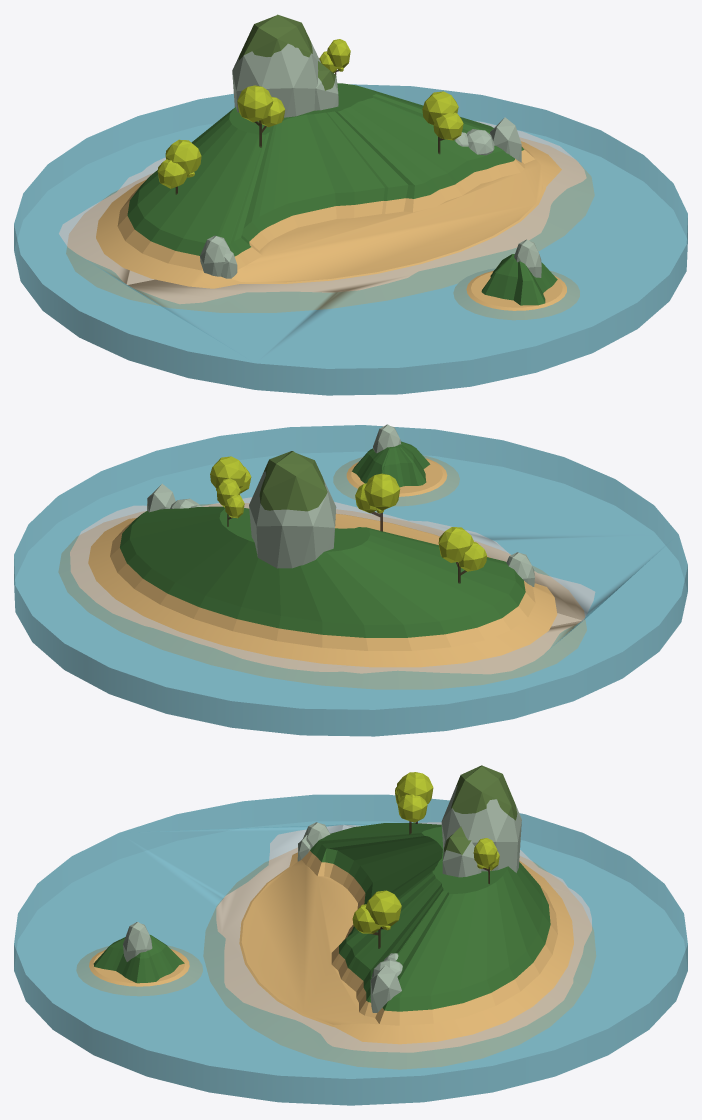
The model's file is island.glb.
The picture shows the model from 3 angles, top to bottom: view 1: azimuth 30°, elevation 25°; view 2: azimuth 150°, elevation 25°; view 3: azimuth 270°, elevation 25°; orthographic projection.
Visible parts, largest first — view 1: Cylinder002, Cylinder003, GeoSphere019, GeoSphere016, GeoSphere009, GeoSphere013, GeoSphere010, GeoSphere017; view 2: Cylinder002, Cylinder003, GeoSphere019, GeoSphere016, GeoSphere009, GeoSphere013, GeoSphere017; view 3: Cylinder002, Cylinder003, GeoSphere009, GeoSphere019, GeoSphere020, GeoSphere013, GeoSphere010.
Part boxes in pixels (x1,y1,x2,y2): Cylinder002: [14, 84, 687, 395]; Cylinder003: [66, 14, 594, 319]; GeoSphere019: [237, 85, 273, 122]; GeoSphere016: [165, 139, 201, 174]; GeoSphere009: [422, 91, 458, 125]; GeoSphere013: [319, 39, 350, 72]; GeoSphere010: [433, 112, 463, 140]; GeoSphere017: [157, 159, 186, 188]; Cylinder002: [14, 425, 687, 736]; Cylinder003: [58, 424, 586, 689]; GeoSphere019: [364, 473, 400, 510]; GeoSphere016: [438, 527, 474, 562]; GeoSphere009: [210, 456, 246, 488]; GeoSphere013: [217, 478, 244, 518]; GeoSphere017: [458, 542, 486, 571]; Cylinder002: [14, 794, 687, 1105]; Cylinder003: [76, 765, 595, 1069]; GeoSphere009: [365, 890, 401, 926]; GeoSphere019: [397, 772, 433, 803]; GeoSphere020: [397, 794, 427, 822]; GeoSphere013: [473, 838, 499, 870]; GeoSphere010: [352, 904, 380, 933].
Size of the model in its own units: 119 by 37.54 by 119.
